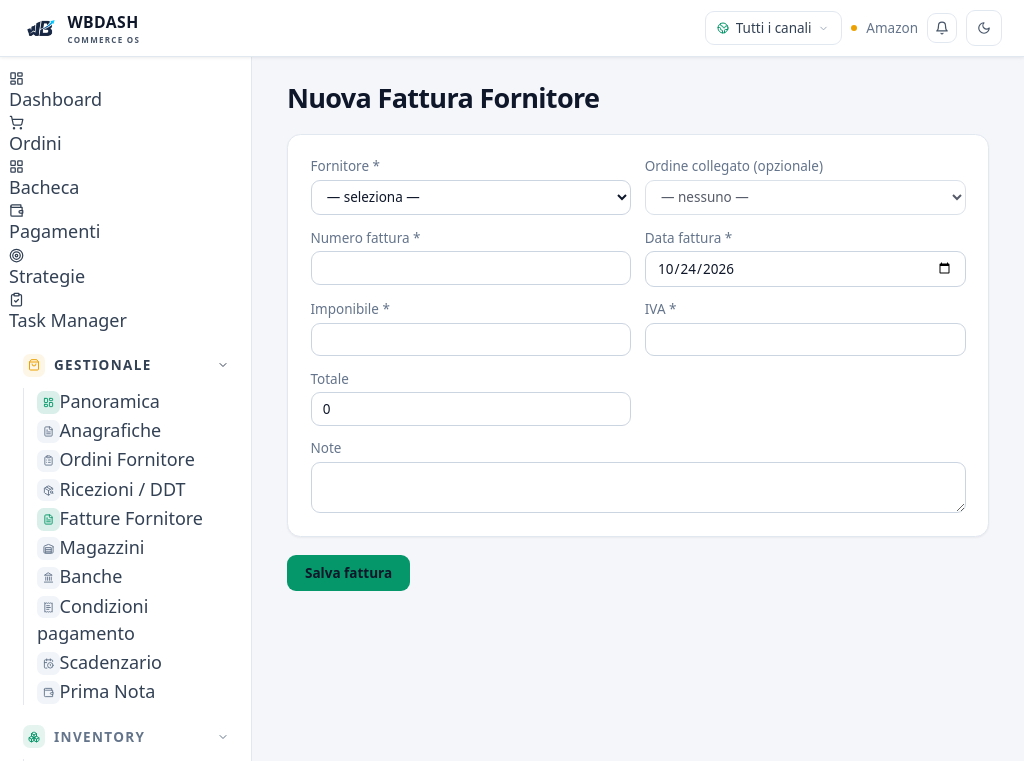
it: NuovaFatturaPage › auto-computes totalAmount from taxableAmount + vatAmount
The image size is (1024, 761).
Select "Acme Supply Srl" in the dropdown labelled "Fornitore *" at point(471, 197), box [310, 180, 631, 215]
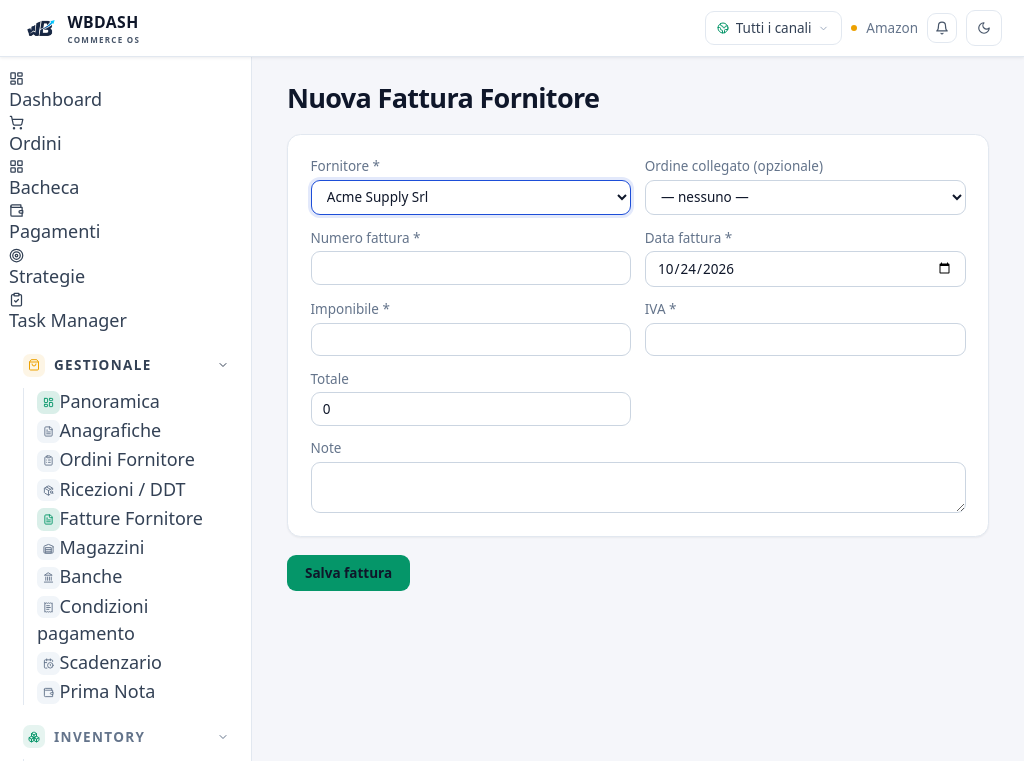
Type "FT-001" into the field labelled "Numero fattura *" at point(471, 268), box [310, 251, 631, 284]
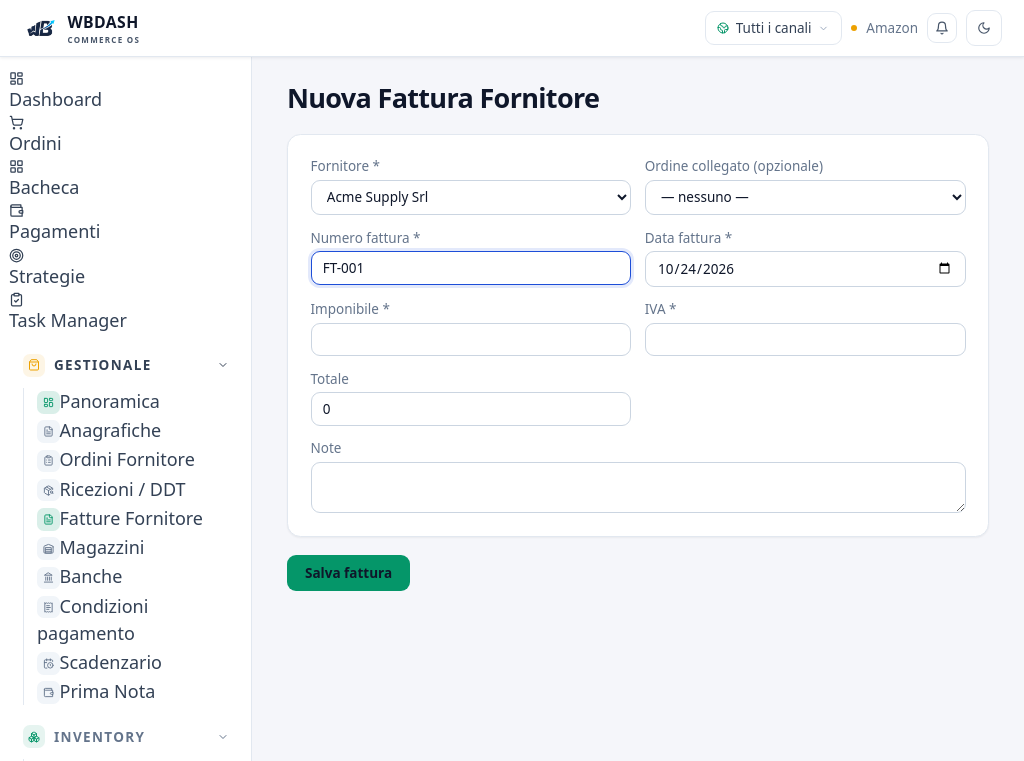
Type "100" into the number field labelled "Imponibile *" at point(471, 339), box [310, 322, 631, 356]
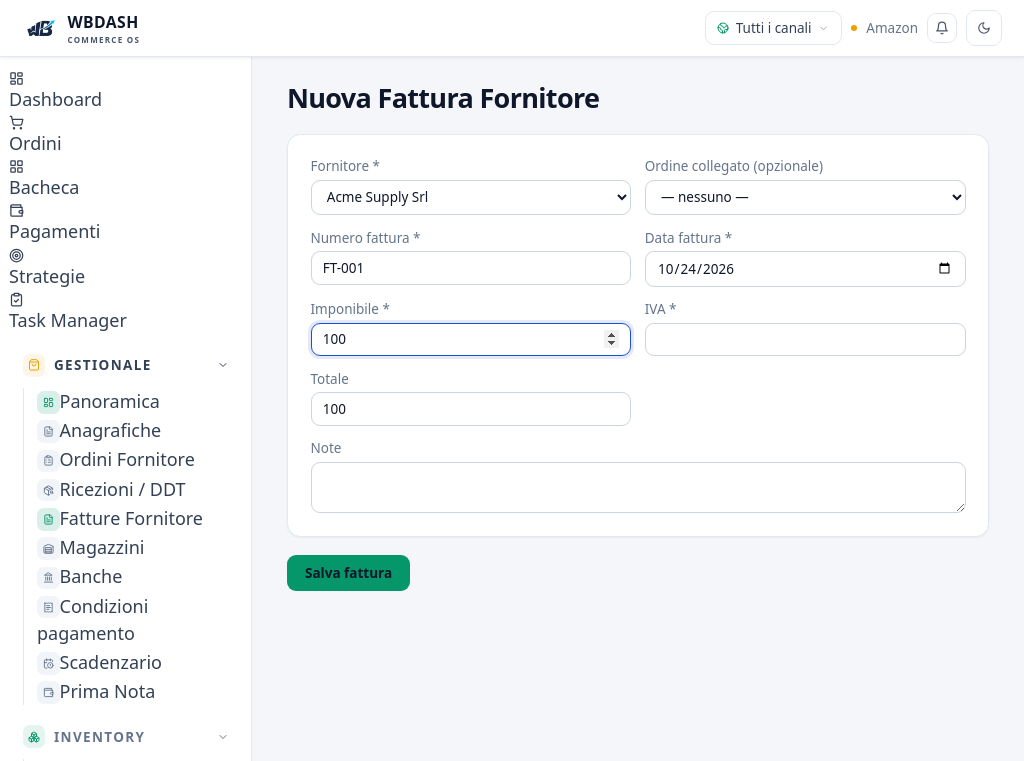
Type "22" into the number field labelled "IVA *" at point(805, 339), box [645, 322, 966, 356]
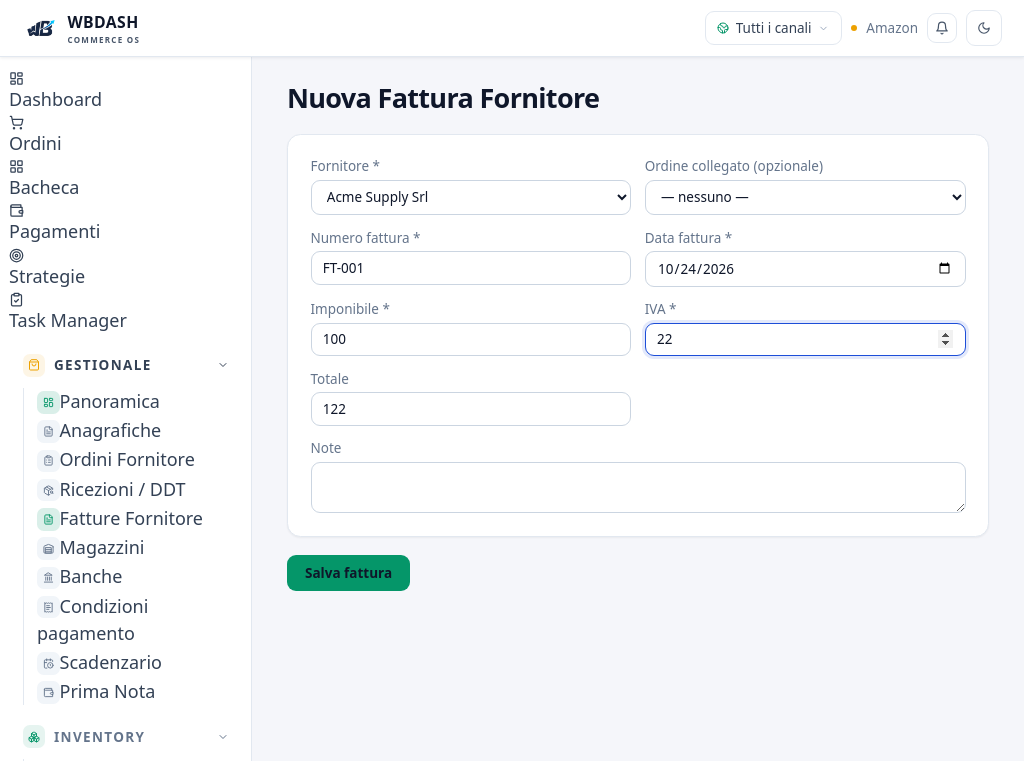
Expected: the number field labelled "Totale" holds "122", [310, 392, 631, 426]
